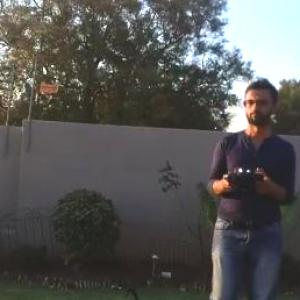follow: (200, 79, 295, 299)
